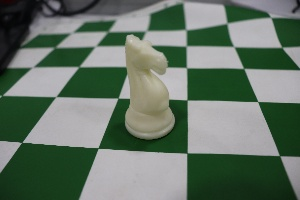white_horse: (110, 26, 187, 150)
